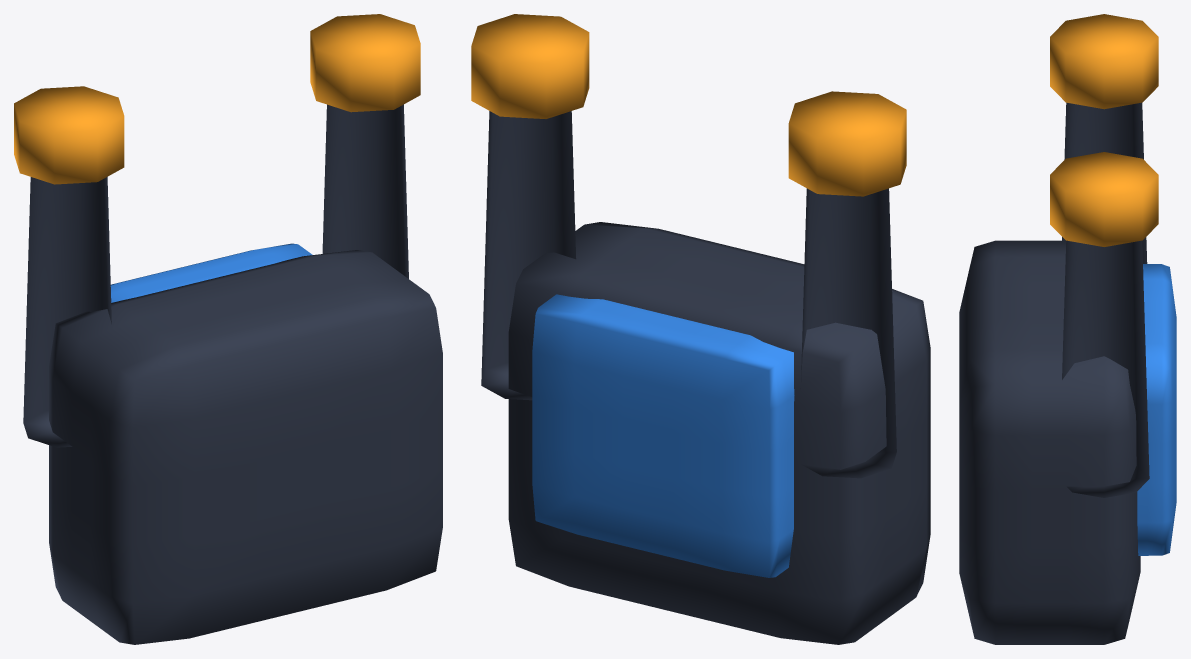
The model's file is core_v8pipes.obj.
3 renders of one model, left to right at view 1: azimuth 30°, elevation 25°; view 2: azimuth 150°, elevation 25°; view 3: azimuth 270°, elevation 25°, orthographic. The views are drawn at different scales.
Size of the model in its own units: 0.48 by 0.58 by 0.24.
